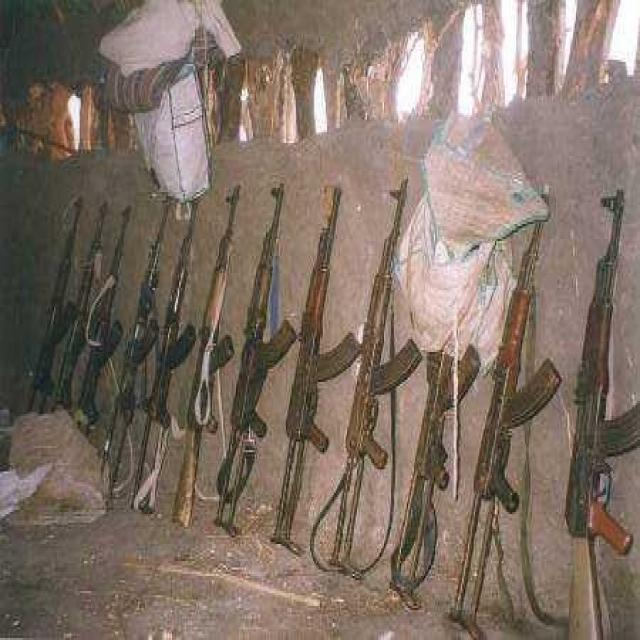heavyweapon: (442, 178, 573, 640), (311, 172, 421, 594), (257, 193, 365, 581), (561, 167, 640, 640), (162, 189, 260, 541), (207, 184, 301, 543), (86, 199, 182, 509), (376, 351, 486, 613), (123, 197, 209, 528)
